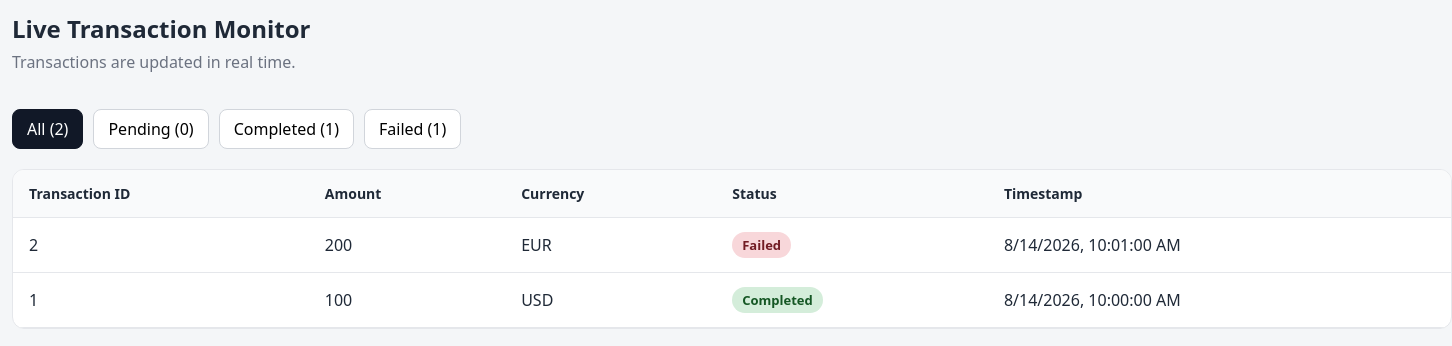
Test: MonitorPage › should filter transactions by status
The width and height of the screenshot is (1452, 346).
Expected: the text "USD" is shown, [505, 272, 716, 328]
Expected: the text "EUR" is shown, [505, 218, 716, 272]
Click the button "Failed (1)" at (413, 129), box [364, 109, 461, 149]
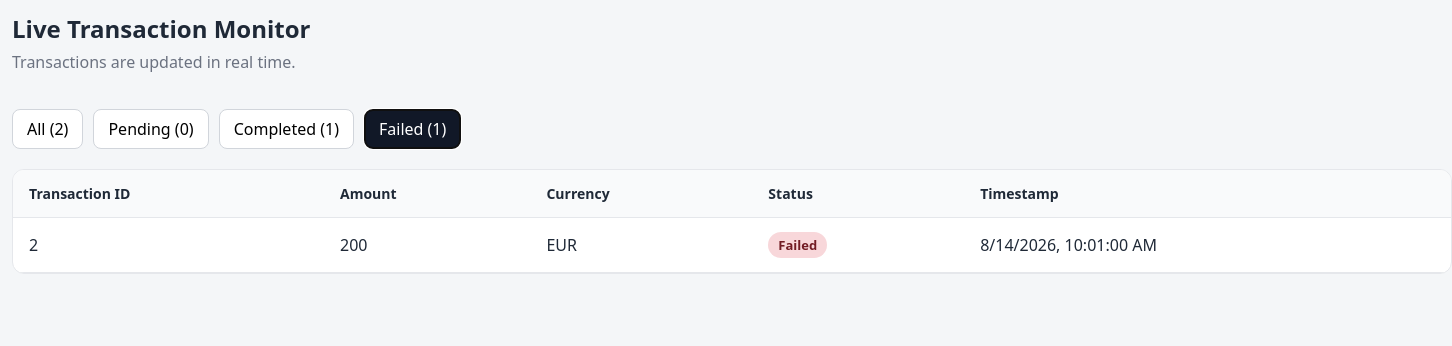
Expected: the text "EUR" is shown, [530, 218, 752, 272]
Expected: the text "USD" is gone
